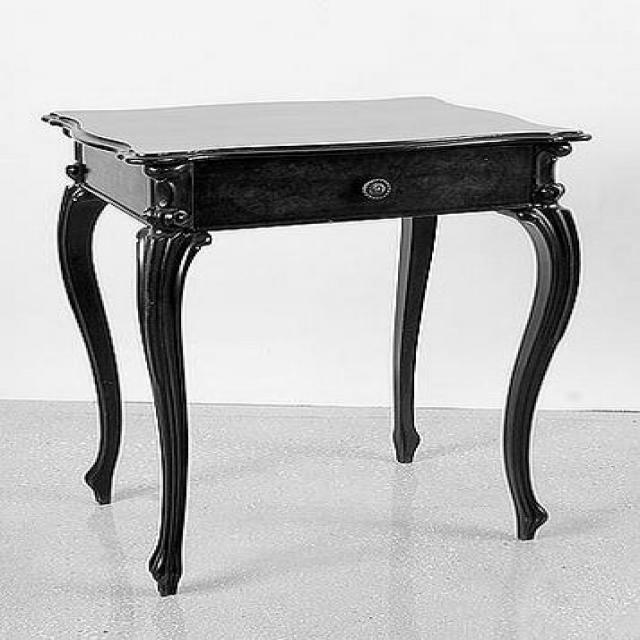table: (38, 96, 591, 594)
